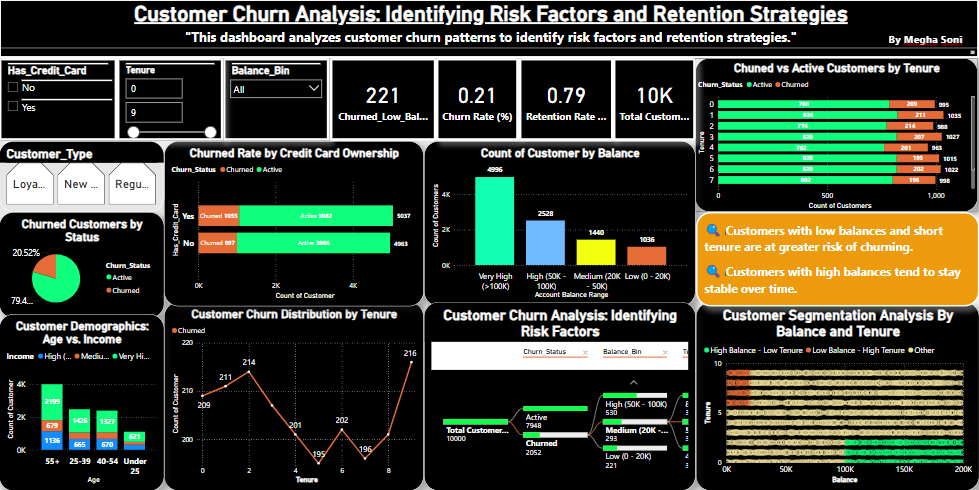

The page's visual inventory and layout, read from the dashboard file:
{"tool":"powerbi","page":{"name":"Page 1","canvas":[2000,1000],"ordinal":0},"visuals":[{"type":"pieChart","title":"Churned Customers by Status","fields":{"Category":["bank_churn_large.Churn_Status"],"Y":["CountNonNull(bank_churn_large.CustomerID)"]},"box":[0,432,336,216],"z":0},{"type":"lineChart","title":"Customer Churn Distribution by Tenure ","fields":{"Category":["bank_churn_large.Tenure"],"Y":["CountNonNull(bank_churn_large.CustomerID)"],"Series":["bank_churn_large.Churn_Status"]},"box":[336,616,528,384],"z":1000},{"type":"barChart","title":" Churned Rate by Credit Card Ownership","fields":{"Series":["bank_churn_large.Churn_Status"],"Category":["bank_churn_large.Has_Credit_Card"],"Y":["CountNonNull(bank_churn_large.CustomerID)"]},"box":[336,288,528,336],"z":2000},{"type":"barChart","title":"Chuned vs Active Customers by Tenure","fields":{"Series":["bank_churn_large.Churn_Status"],"Category":["bank_churn_large.Tenure"],"Y":["CountNonNull(bank_churn_large.CustomerID)"]},"box":[1416,120,576,312],"z":3000},{"type":"clusteredColumnChart","title":"Count of Customer by Balance","fields":{"Y":["CountNonNull(bank_churn_large.CustomerID)"],"Category":["bank_churn_large.Balance_Bin"]},"box":[864,288,552,336],"z":4000},{"type":"scatterChart","title":"Customer Segmentation Analysis By Balance and Tenure","fields":{"X":["bank_churn_large.Balance"],"Y":["bank_churn_large.Tenure"],"Size":["Sum(bank_churn_large.EstimatedSalary)"],"Series":["bank_churn_large.Customer Segment"]},"box":[1416,616,576,384],"z":5000},{"type":"card","fields":{"Values":["bank_churn_large.Churn Rate (%)"]},"box":[888,120,168,168],"z":6000},{"type":"card","fields":{"Values":["bank_churn_large.Retention Rate (%)"]},"box":[1056,120,192,168],"z":7000},{"type":"card","fields":{"Values":["bank_churn_large.Total Customers"]},"box":[1248,120,168,168],"z":8000},{"type":"decompositionTreeVisual","title":"Customer Churn Analysis: Identifying Risk Factors","fields":{"Analyze":["bank_churn_large.Total Customers1"],"ExplainBy":["bank_churn_large.Churn_Status","bank_churn_large.Balance_Bin","bank_churn_large.Tenure","bank_churn_large.Has_Credit_Card"]},"box":[864,616,552,384],"z":9000},{"type":"textbox","box":[1416,432,576,192],"z":10000},{"type":"slicer","fields":{"Values":["bank_churn_large.Balance_Bin"]},"box":[456,120,216,168],"z":11000},{"type":"slicer","title":"Credit Card Ownership","fields":{"Values":["bank_churn_large.Has_Credit_Card"]},"box":[0,120,240,168],"z":12000},{"type":"slicer","fields":{"Values":["bank_churn_large.Tenure"]},"box":[240,120,216,168],"z":13000},{"type":"advancedSlicerVisual","fields":{"Values":["bank_churn_large.Customer_Type"]},"box":[0,288,336,144],"z":14000},{"type":"card","title":"Churned Customers with Low Balance","fields":{"Values":["bank_churn_large.Churned_Low_Balance"]},"box":[672,120,216,168],"z":15000},{"type":"textbox","title":"Customer Churn Analysis: Identifying Risk Factors and Retention Strategies","box":[0,0,1992,120],"z":16000},{"type":"columnChart","title":"Customer Demographics:  Age vs. Income","fields":{"Category":["bank_churn_large.Age_Group"],"Y":["CountNonNull(bank_churn_large.CustomerID)"],"Series":["bank_churn_large.Salary_Bin"]},"box":[0,640,336,360],"z":17000},{"type":"textbox","box":[1824,48,168,72],"z":17001},{"type":"image","box":[32,0,112,112],"z":17002}]}

Visuals, with their boxes in screenshot pixels (x1, y1, x2, y2), scaled from the page's 2000x1000 canvas onto the 979x490 screenshot:
"Churned Customers by Status" pieChart: {"x1": 0, "y1": 212, "x2": 164, "y2": 318}
"Customer Churn Distribution by Tenure " lineChart: {"x1": 164, "y1": 302, "x2": 423, "y2": 489}
" Churned Rate by Credit Card Ownership" barChart: {"x1": 164, "y1": 141, "x2": 423, "y2": 306}
"Chuned vs Active Customers by Tenure" barChart: {"x1": 693, "y1": 59, "x2": 975, "y2": 212}
"Count of Customer by Balance" clusteredColumnChart: {"x1": 423, "y1": 141, "x2": 693, "y2": 306}
"Customer Segmentation Analysis By Balance and Tenure" scatterChart: {"x1": 693, "y1": 302, "x2": 975, "y2": 489}
card - bank_churn_large.Churn Rate (%): {"x1": 435, "y1": 59, "x2": 517, "y2": 141}
card - bank_churn_large.Retention Rate (%): {"x1": 517, "y1": 59, "x2": 611, "y2": 141}
card - bank_churn_large.Total Customers: {"x1": 611, "y1": 59, "x2": 693, "y2": 141}
"Customer Churn Analysis: Identifying Risk Factors" decompositionTreeVisual: {"x1": 423, "y1": 302, "x2": 693, "y2": 489}
textbox: {"x1": 693, "y1": 212, "x2": 975, "y2": 306}
slicer - bank_churn_large.Balance_Bin: {"x1": 223, "y1": 59, "x2": 329, "y2": 141}
"Credit Card Ownership" slicer: {"x1": 0, "y1": 59, "x2": 117, "y2": 141}
slicer - bank_churn_large.Tenure: {"x1": 117, "y1": 59, "x2": 223, "y2": 141}
advancedSlicerVisual - bank_churn_large.Customer_Type: {"x1": 0, "y1": 141, "x2": 164, "y2": 212}
"Churned Customers with Low Balance" card: {"x1": 329, "y1": 59, "x2": 435, "y2": 141}
"Customer Churn Analysis: Identifying Risk Factors and Retention Strategies" textbox: {"x1": 0, "y1": 0, "x2": 975, "y2": 59}
"Customer Demographics:  Age vs. Income" columnChart: {"x1": 0, "y1": 314, "x2": 164, "y2": 489}
textbox: {"x1": 893, "y1": 24, "x2": 975, "y2": 59}
image: {"x1": 16, "y1": 0, "x2": 70, "y2": 55}
